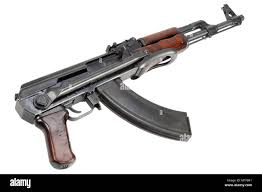gun: (13, 2, 245, 170)
